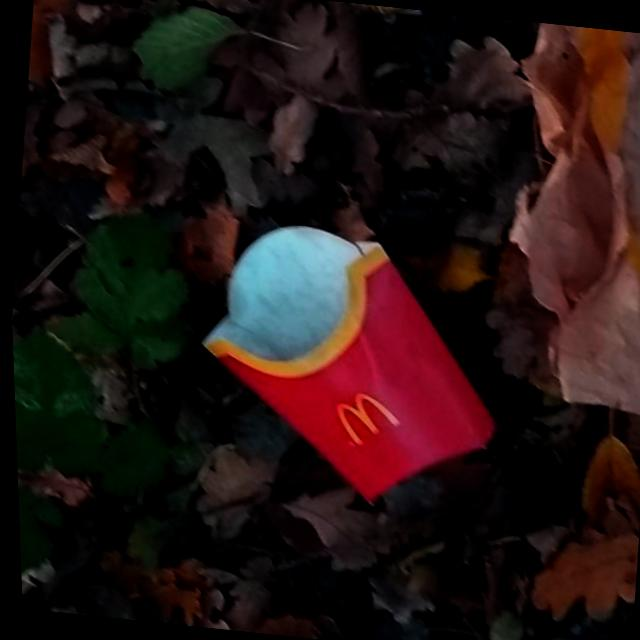Paper: (175, 209, 516, 522)
